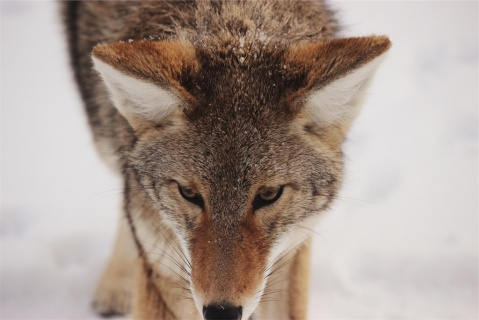Fox: (54, 0, 394, 318)
